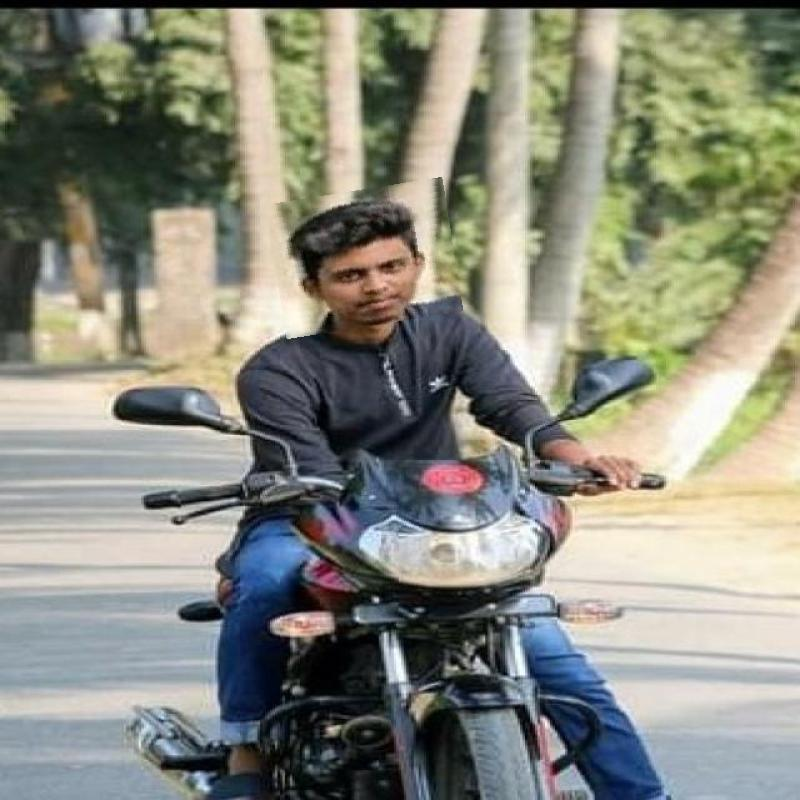nohelmet: (270, 184, 459, 332)
